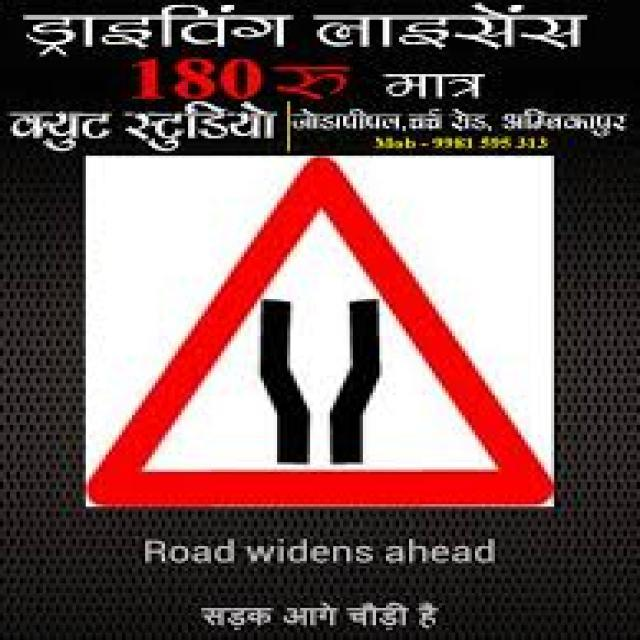road widens ahead: (88, 156, 552, 505)
